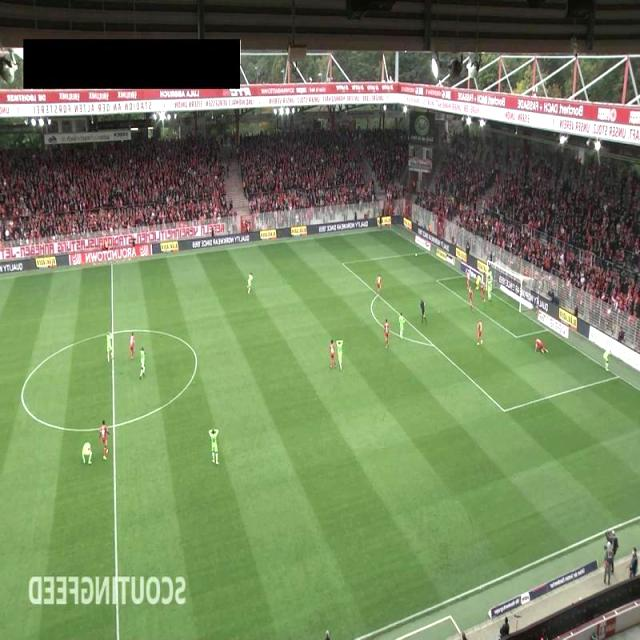bigarea_bottom_inner: (500, 406, 510, 416)
bigarea_bottom_outter: (612, 369, 624, 384)
bigarea_top_inner: (337, 258, 348, 268)
bigarea_top_outter: (422, 248, 433, 258)
bottom_arc_area_intersection: (428, 340, 438, 350)
corner: (385, 224, 396, 236)
halfcircle_bottom: (108, 421, 119, 432)
halfcircle_top: (108, 327, 119, 338)
midline_top_intersection: (106, 258, 118, 269)
smallarea_bottom_inner: (511, 330, 522, 340)
smallarea_bottom_outter: (541, 324, 553, 335)
smallarea_top_inner: (432, 276, 442, 286)
smallarea_top_outter: (462, 272, 472, 282)
top_arc_area_intersection: (372, 290, 383, 301)
